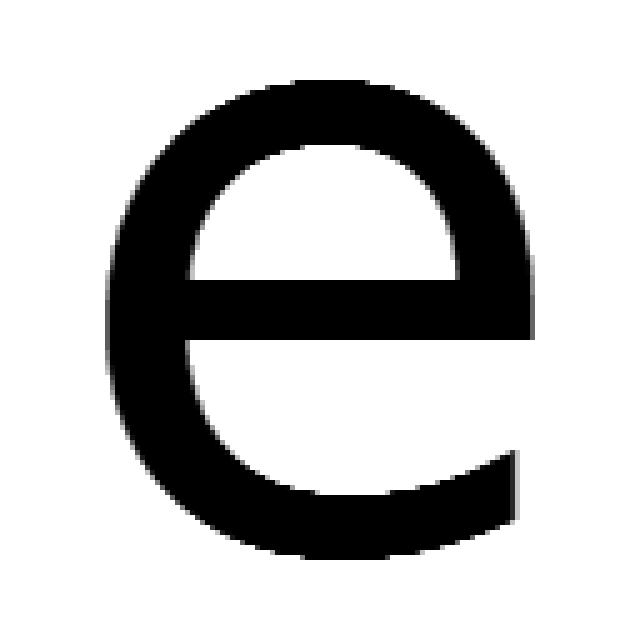E: (115, 80, 535, 560)
